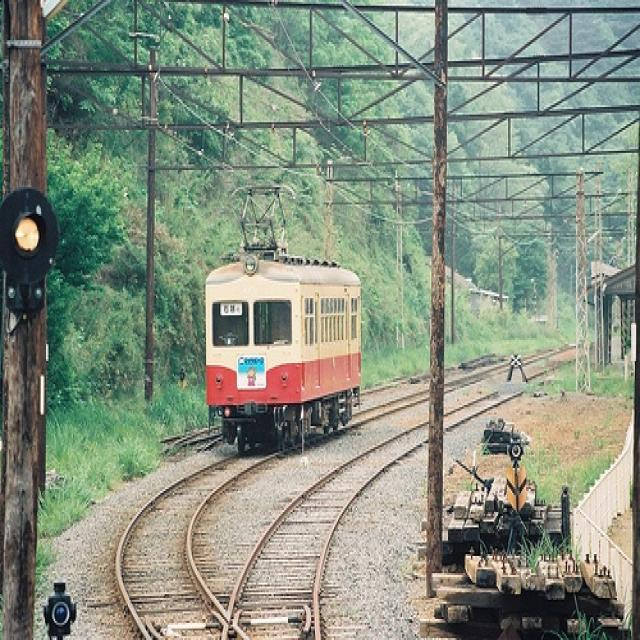train: (203, 254, 365, 455)
